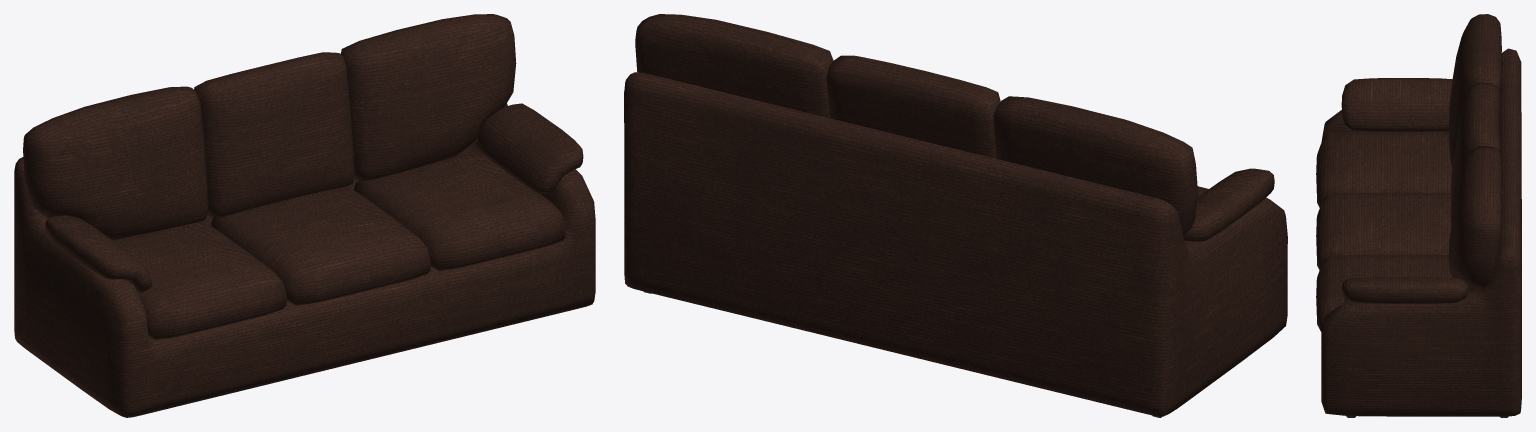
Rendered from sofa_1.obj.
3 renders of one model, left to right at view 1: azimuth 30°, elevation 25°; view 2: azimuth 150°, elevation 25°; view 3: azimuth 270°, elevation 25°, orthographic. The views are drawn at different scales.
Visible parts, largest first — view 1: sofa_1; view 2: sofa_1; view 3: sofa_1.
Part boxes in pixels (x1,y1,x2,y2): sofa_1: (14, 14, 595, 417); sofa_1: (624, 14, 1287, 417); sofa_1: (1316, 14, 1521, 417).
Size of the model in its own units: 2.62 by 1.23 by 1.08.
